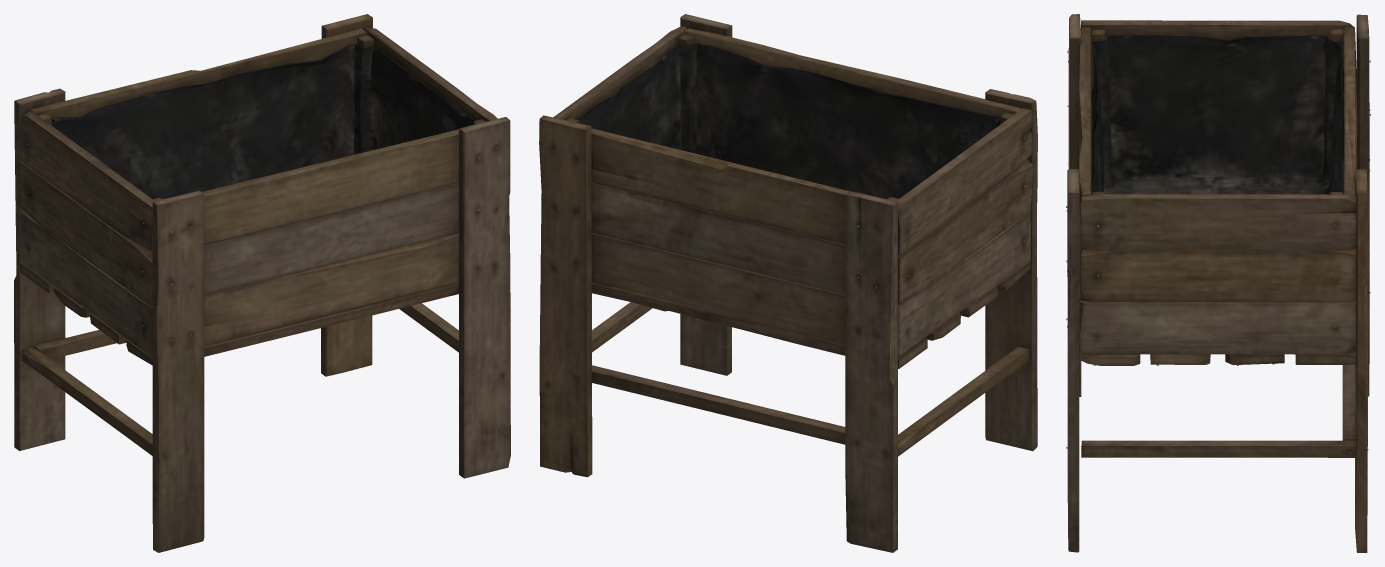
The model's file is planter_box_03.glb.
The picture shows the model from 3 angles, left to right: view 1: azimuth 30°, elevation 25°; view 2: azimuth 150°, elevation 25°; view 3: azimuth 270°, elevation 25°; orthographic projection. The views are drawn at different scales.
Visible parts, largest first — view 1: planter_box_03; view 2: planter_box_03; view 3: planter_box_03.
Part boxes in pixels (<box>): planter_box_03: <box>14,14,510,552</box>; planter_box_03: <box>539,14,1037,552</box>; planter_box_03: <box>1066,14,1370,552</box>.
Size of the model in its own units: 0.9136 by 0.8539 by 0.6536.
Materials: 1 (1 with a texture image).
